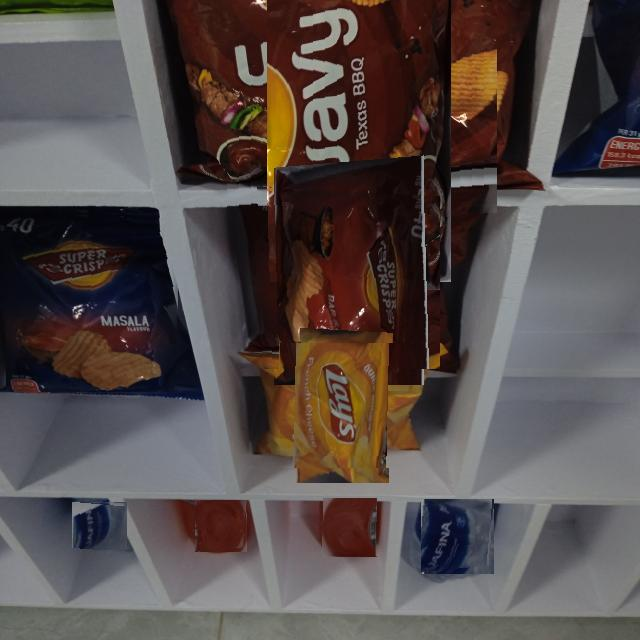Plastic: (220, 0, 497, 235), (257, 188, 440, 370), (6, 210, 181, 392), (280, 343, 405, 468), (422, 499, 496, 573), (321, 499, 378, 556), (195, 500, 248, 552), (74, 499, 125, 550)
